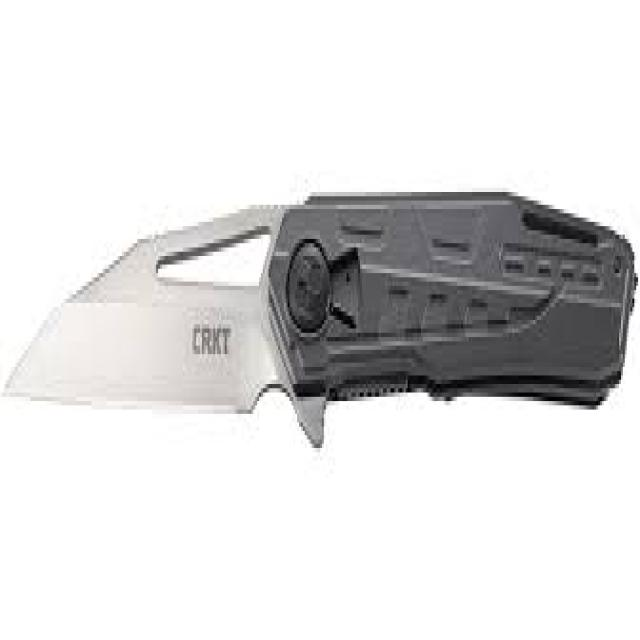knives: (0, 175, 638, 452)
